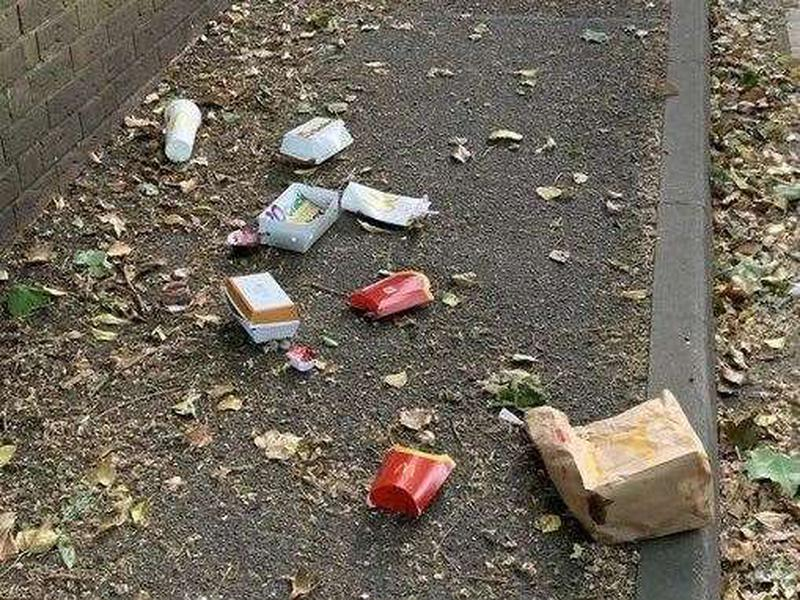cardboard: (251, 176, 341, 253), (220, 269, 303, 349), (278, 116, 355, 167)
cup: (363, 441, 458, 517), (341, 177, 443, 229), (343, 266, 437, 319), (157, 101, 206, 165)
paper: (522, 387, 727, 546)
